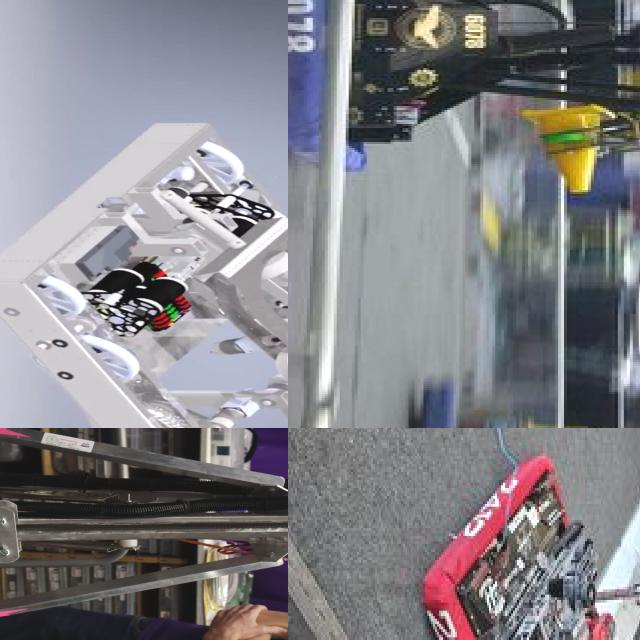FRC-Robots: (288, 0, 640, 184), (0, 428, 288, 637), (393, 428, 640, 640)
